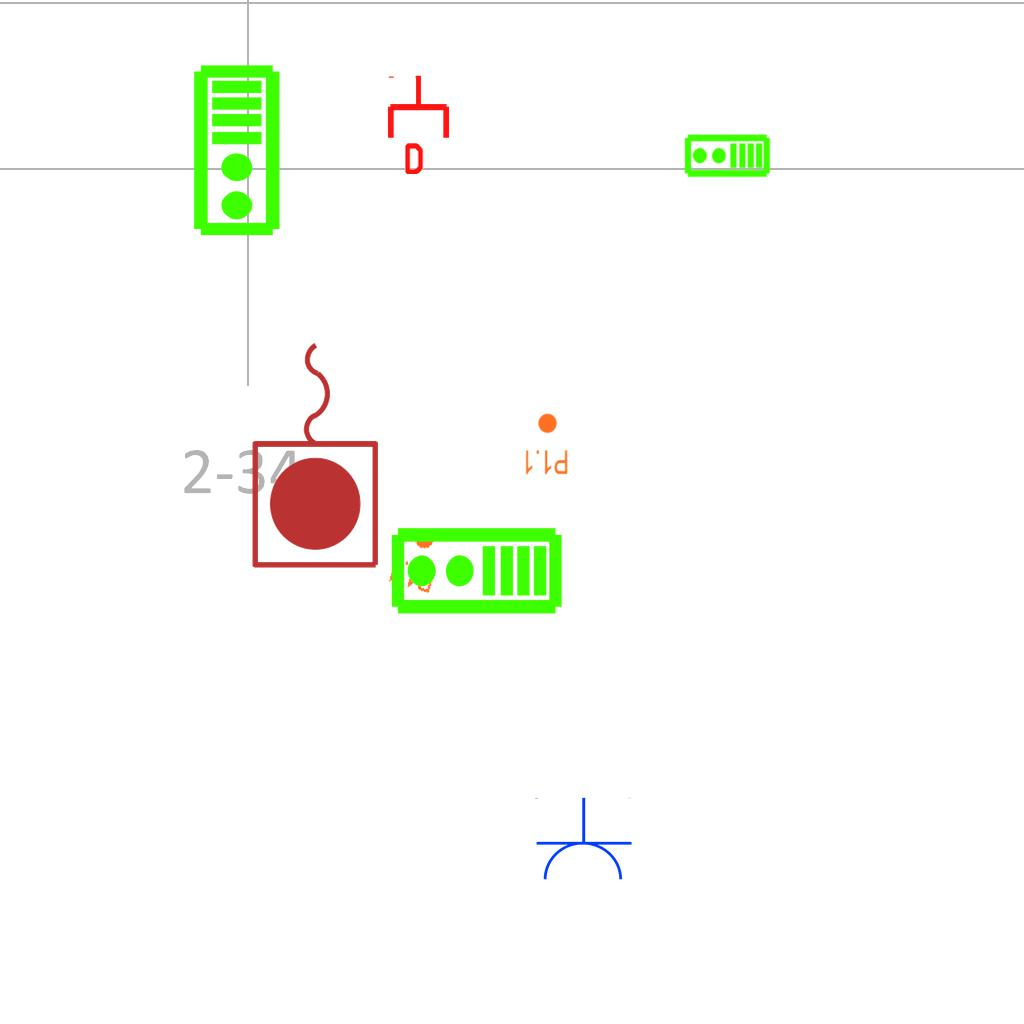Datenanschluss_einfach: (384, 74, 453, 174)
Downlight_LED_Einbauleuchten_Flur: (385, 520, 449, 596), (523, 412, 569, 476)
Gegensprechanlage_mit_Video: (191, 63, 286, 239), (388, 525, 564, 620), (683, 133, 771, 180)
Schukosteckdose_einfach: (533, 797, 633, 884)
Zugtaster: (245, 332, 389, 576)
